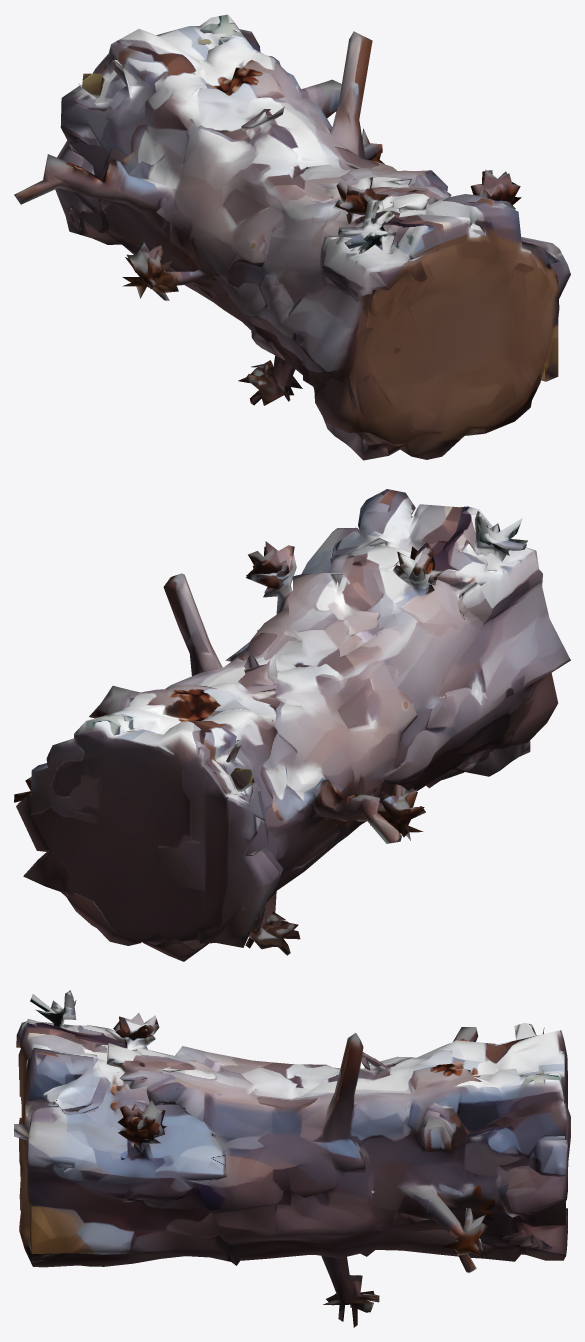
The model's file is FallenTree.obj.
The picture shows the model from 3 angles, top to bottom: view 1: azimuth 30°, elevation 25°; view 2: azimuth 150°, elevation 25°; view 3: azimuth 270°, elevation 25°; orthographic projection. The views are drawn at different scales.
Visible parts, largest first — view 1: tripo_node_28c1d69c-3e8f-4bbc-bf89-29382bc329c4; view 2: tripo_node_28c1d69c-3e8f-4bbc-bf89-29382bc329c4; view 3: tripo_node_28c1d69c-3e8f-4bbc-bf89-29382bc329c4.
Part boxes in pixels (left/top/right/bottom): tripo_node_28c1d69c-3e8f-4bbc-bf89-29382bc329c4: left=14, top=14, right=570, bottom=460; tripo_node_28c1d69c-3e8f-4bbc-bf89-29382bc329c4: left=14, top=489, right=570, bottom=961; tripo_node_28c1d69c-3e8f-4bbc-bf89-29382bc329c4: left=14, top=990, right=570, bottom=1327.
Bounding box in the file's own units: 0.712 × 0.6386 × 0.9987.
1 material, 1 textured.
